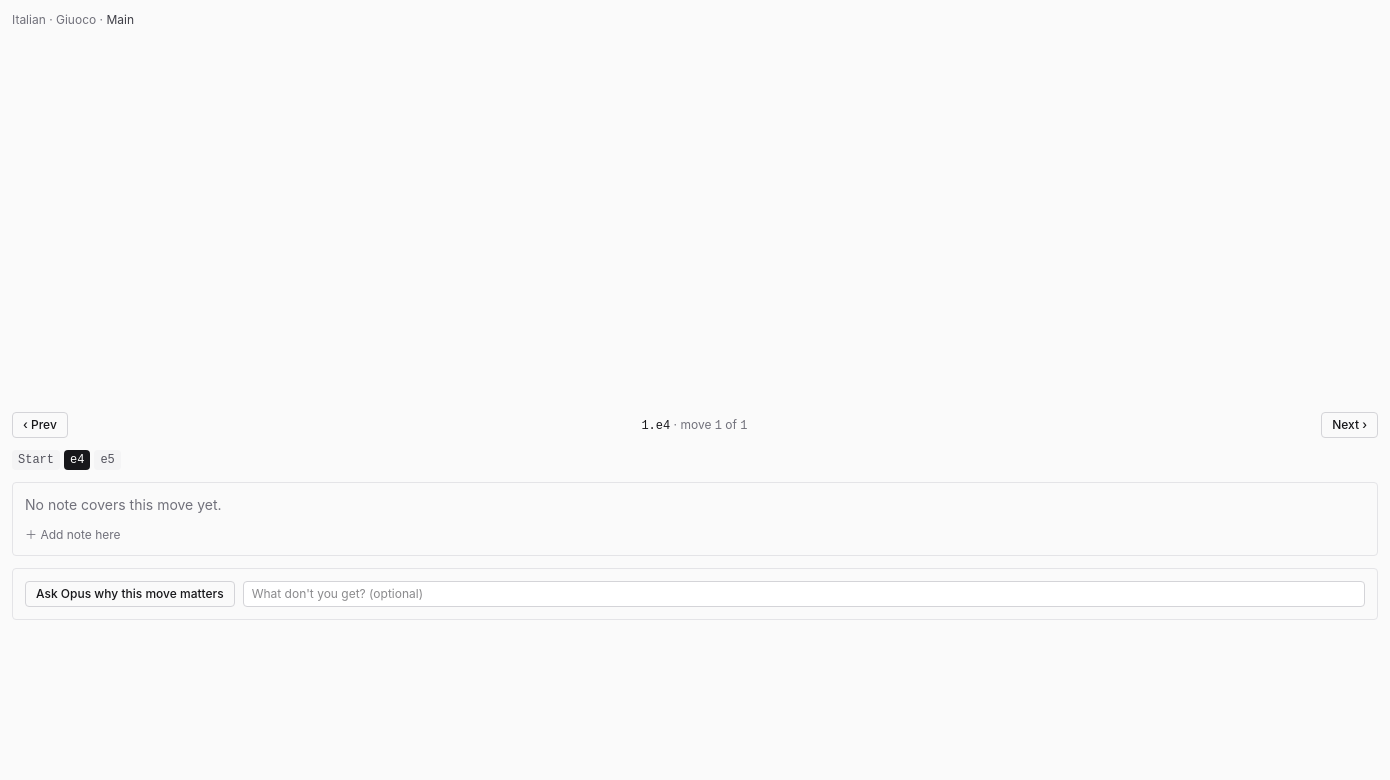
Test: LineAskPanel in the walk-through › stepping away during a request does not move the answer to another ply
What coordinates should you click on to do the following:
click the button "Ask Opus why this move matters"
I would click on:
 (130, 594)
Its box is [25,581,235,607].
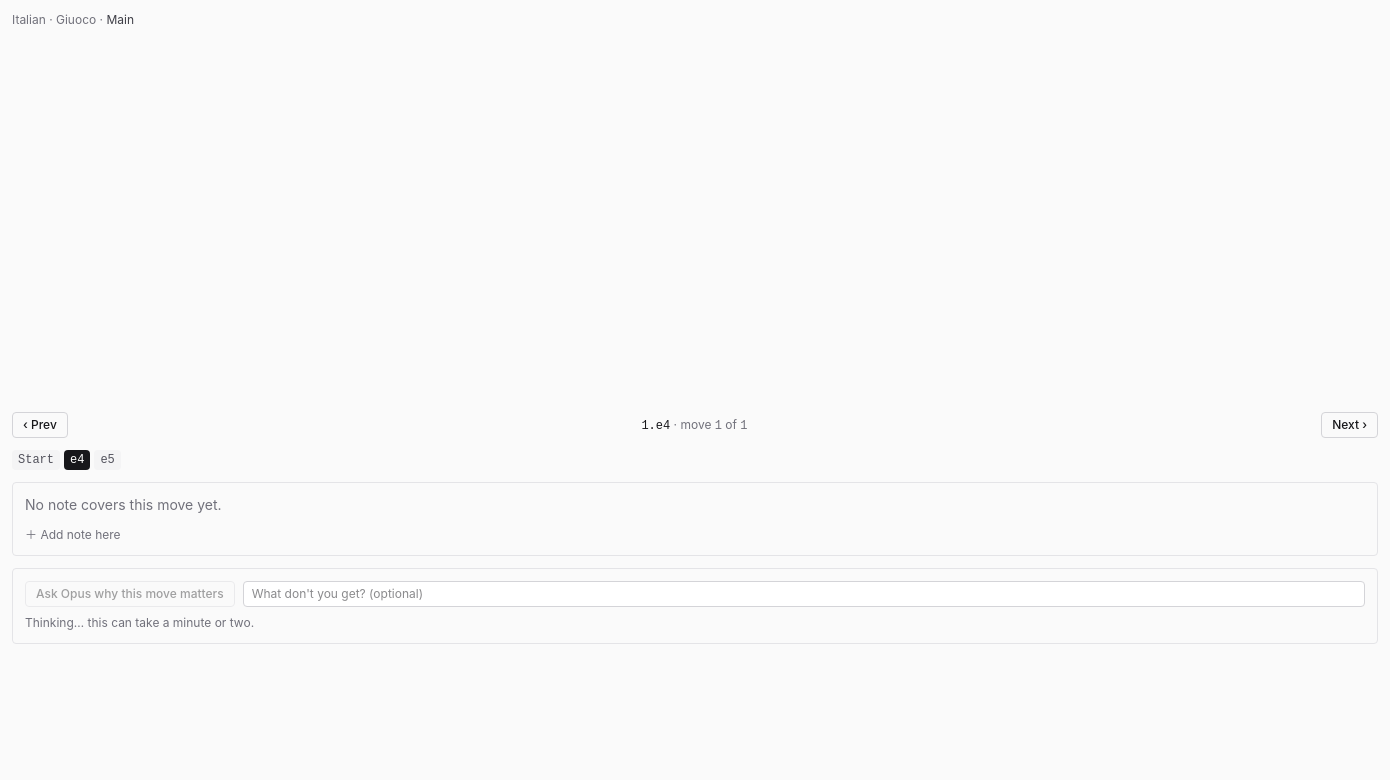
What coordinates should you click on to do the following:
click the button "Next ›"
I would click on:
 (1350, 425)
Its box is [1321,412,1378,438].
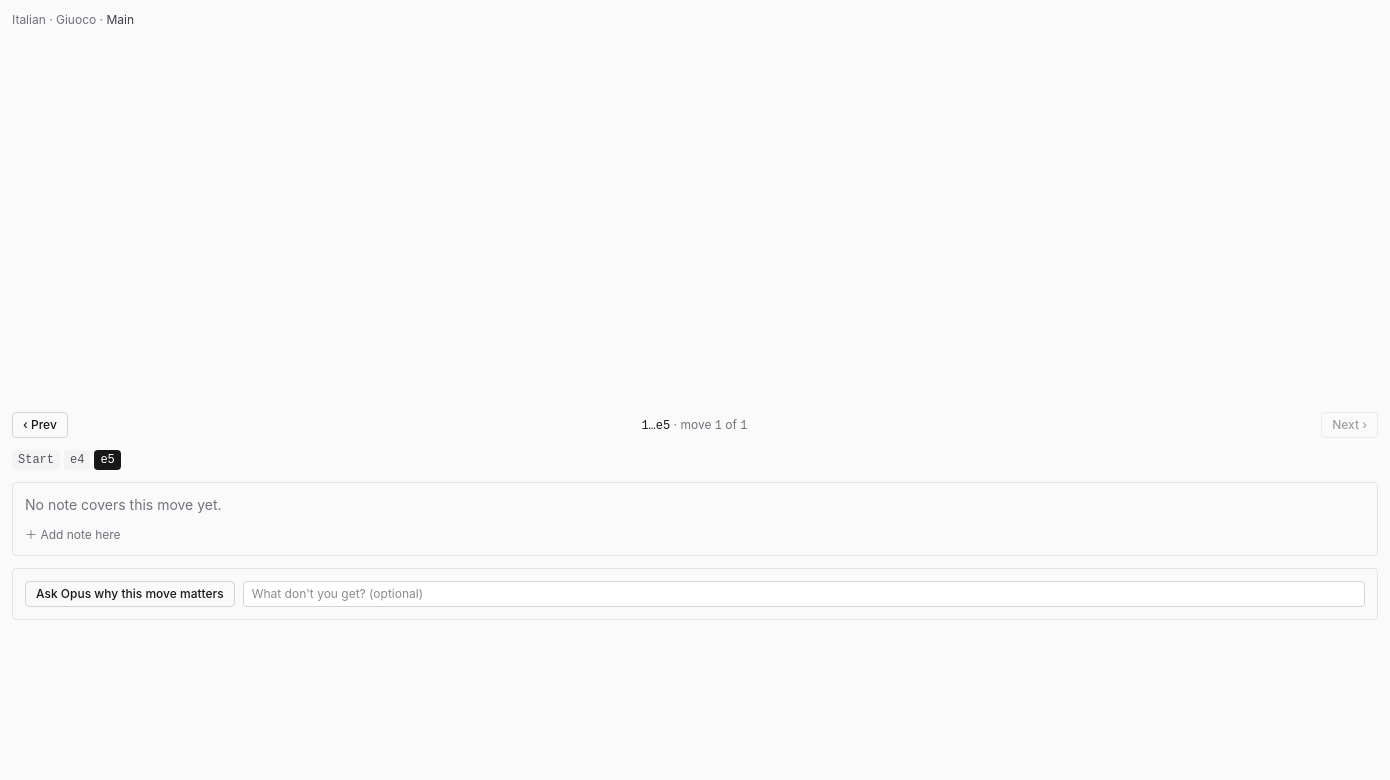
Result: the button "Ask Opus why this move matters" is enabled at [25,581,235,607]
What coordinates should you click on to do the following:
click the button "‹ Prev"
I would click on:
 (40, 425)
Its box is [12,412,68,438].
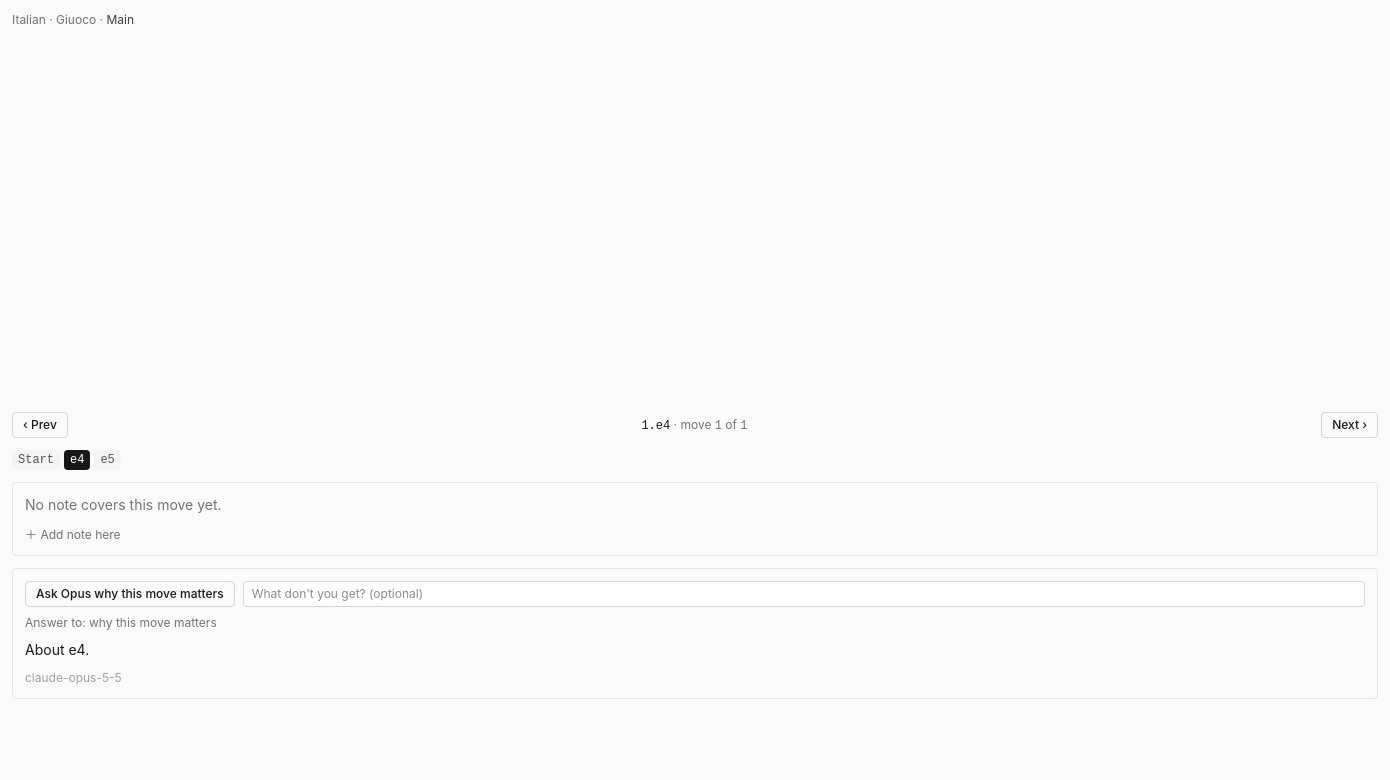
Result: the element with test id "line-answer" shows "About e4." at [25,641,89,658]
